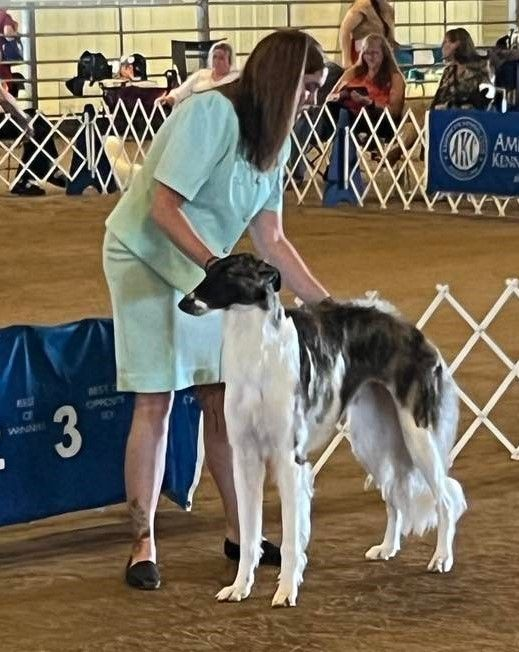borzoi: (177, 239, 477, 616)
